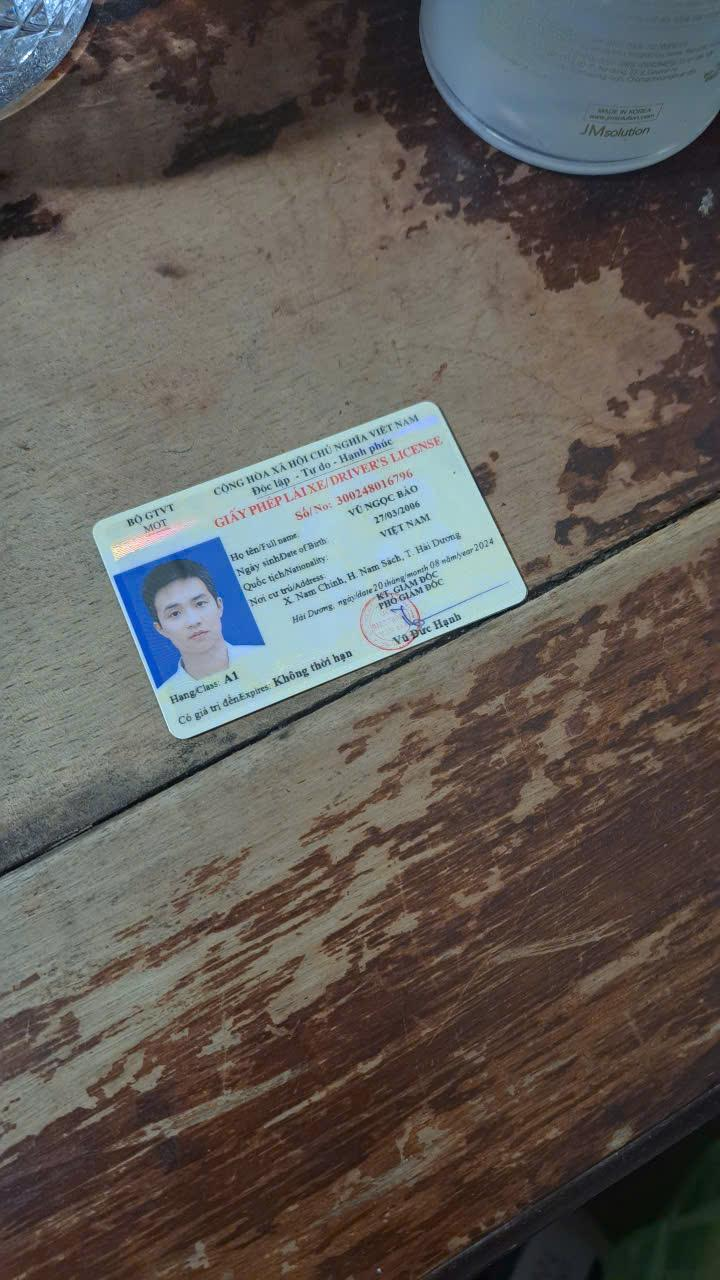gplx: (80, 395, 532, 748)
